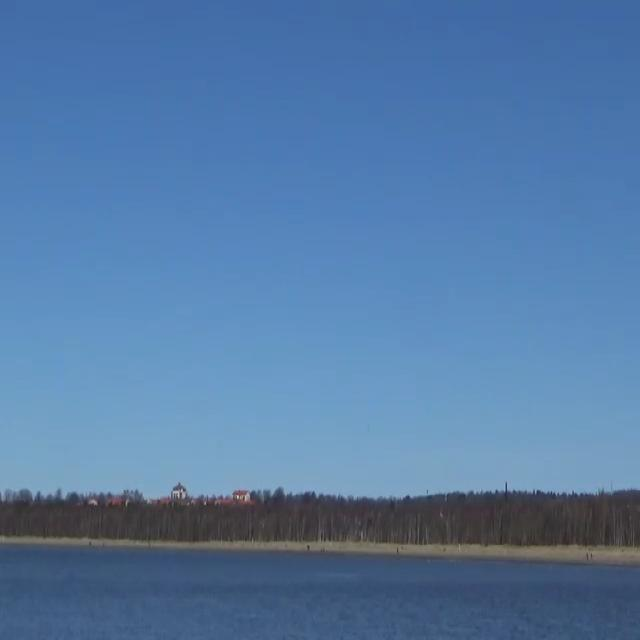Helicopter: (352, 408, 386, 446)
